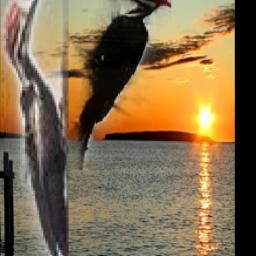Woodpecker: (62, 0, 172, 170), (2, 0, 70, 256)
